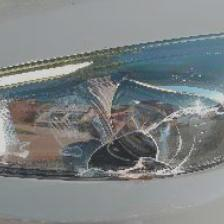head_lamp: (0, 57, 223, 180)
